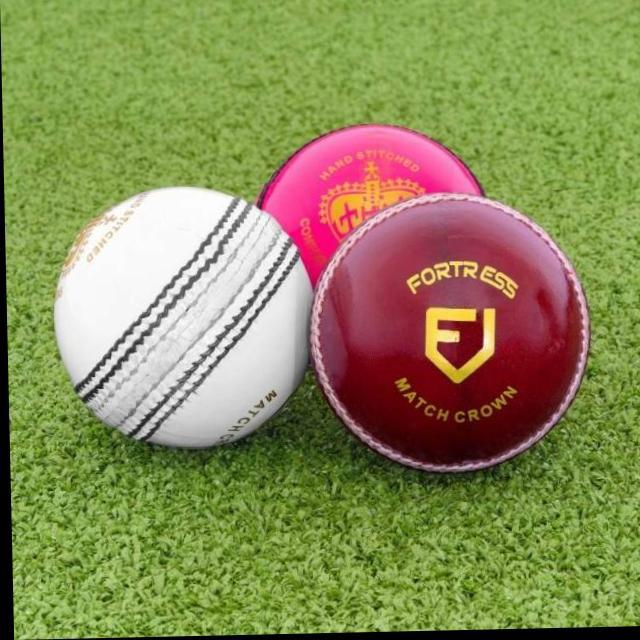cricket ball: (307, 195, 591, 478), (54, 186, 312, 449)
